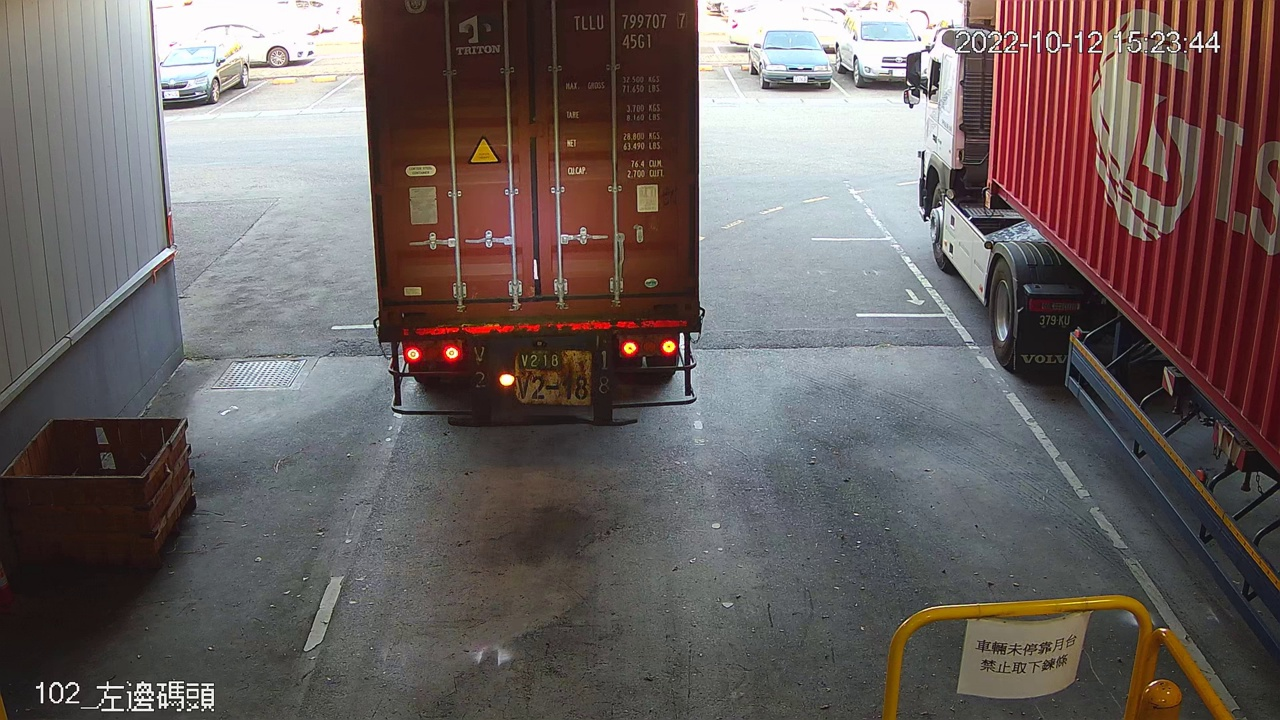container: (566, 8, 692, 53)
